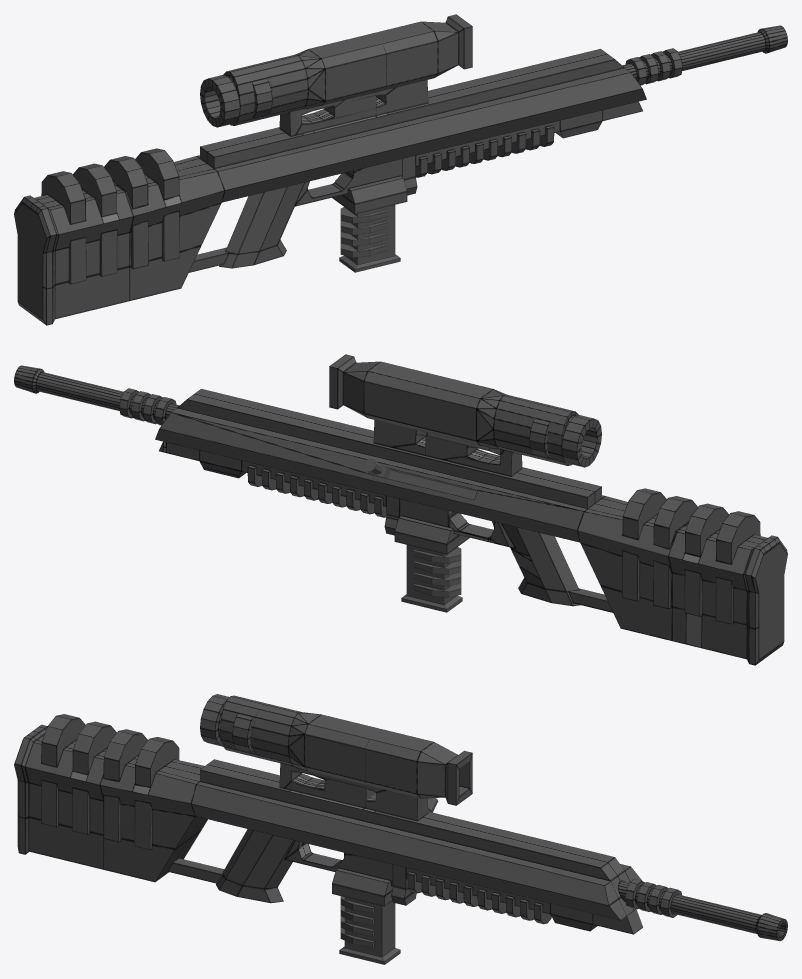
File: weapon02.fbx
3 views of the same model, one above another, from view 1: azimuth 30°, elevation 25°; view 2: azimuth 150°, elevation 25°; view 3: azimuth 330°, elevation 25° (orthographic).
Parts seen in each view (by area): view 1: weapon02, scope01, scope02, magazine; view 2: weapon02, scope01, scope02, magazine; view 3: weapon02, scope01, scope02, magazine.
Boxes of the visible parts, x1,y1,x2,y2 form: weapon02: (14, 25, 787, 325); scope01: (200, 14, 472, 136); scope02: (252, 35, 386, 134); magazine: (339, 205, 400, 272); weapon02: (14, 365, 787, 665); scope01: (329, 354, 601, 476); scope02: (420, 380, 549, 476); magazine: (401, 545, 462, 612); weapon02: (14, 714, 787, 940); scope01: (200, 694, 472, 820); scope02: (232, 703, 375, 808); magazine: (339, 896, 400, 964).
Size of the model in its own units: 576 by 163 by 59.65.
